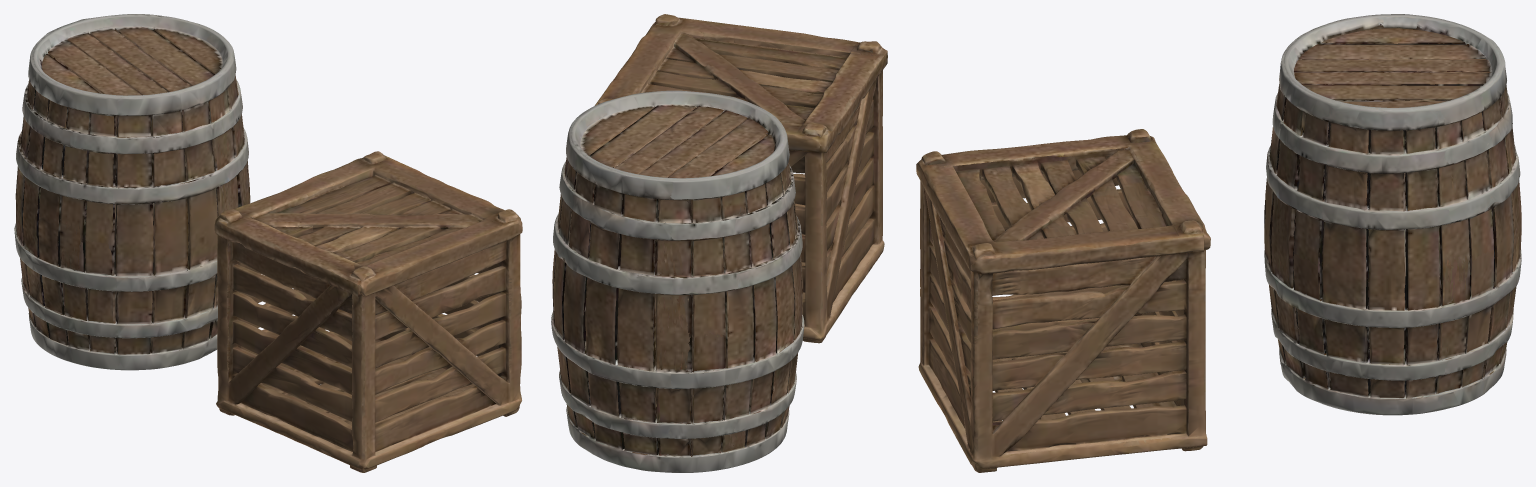
The model's file is barrel-and-box.glb.
The picture shows the model from 3 angles, left to right: view 1: azimuth 30°, elevation 25°; view 2: azimuth 150°, elevation 25°; view 3: azimuth 270°, elevation 25°; orthographic projection. The views are drawn at different scales.
Visible parts, largest first — view 1: tripo_part_0, tripo_part_1; view 2: tripo_part_1, tripo_part_0; view 3: tripo_part_1, tripo_part_0.
Boxes of the visible parts, x1,y1,x2,y2 form: tripo_part_0: (214, 151, 522, 472); tripo_part_1: (14, 14, 250, 370); tripo_part_1: (551, 90, 804, 472); tripo_part_0: (594, 14, 887, 343); tripo_part_1: (1264, 14, 1521, 415); tripo_part_0: (916, 129, 1210, 472).
Size of the model in its own units: 0.6585 by 0.5587 by 0.9998.
2 materials, 2 textured.
